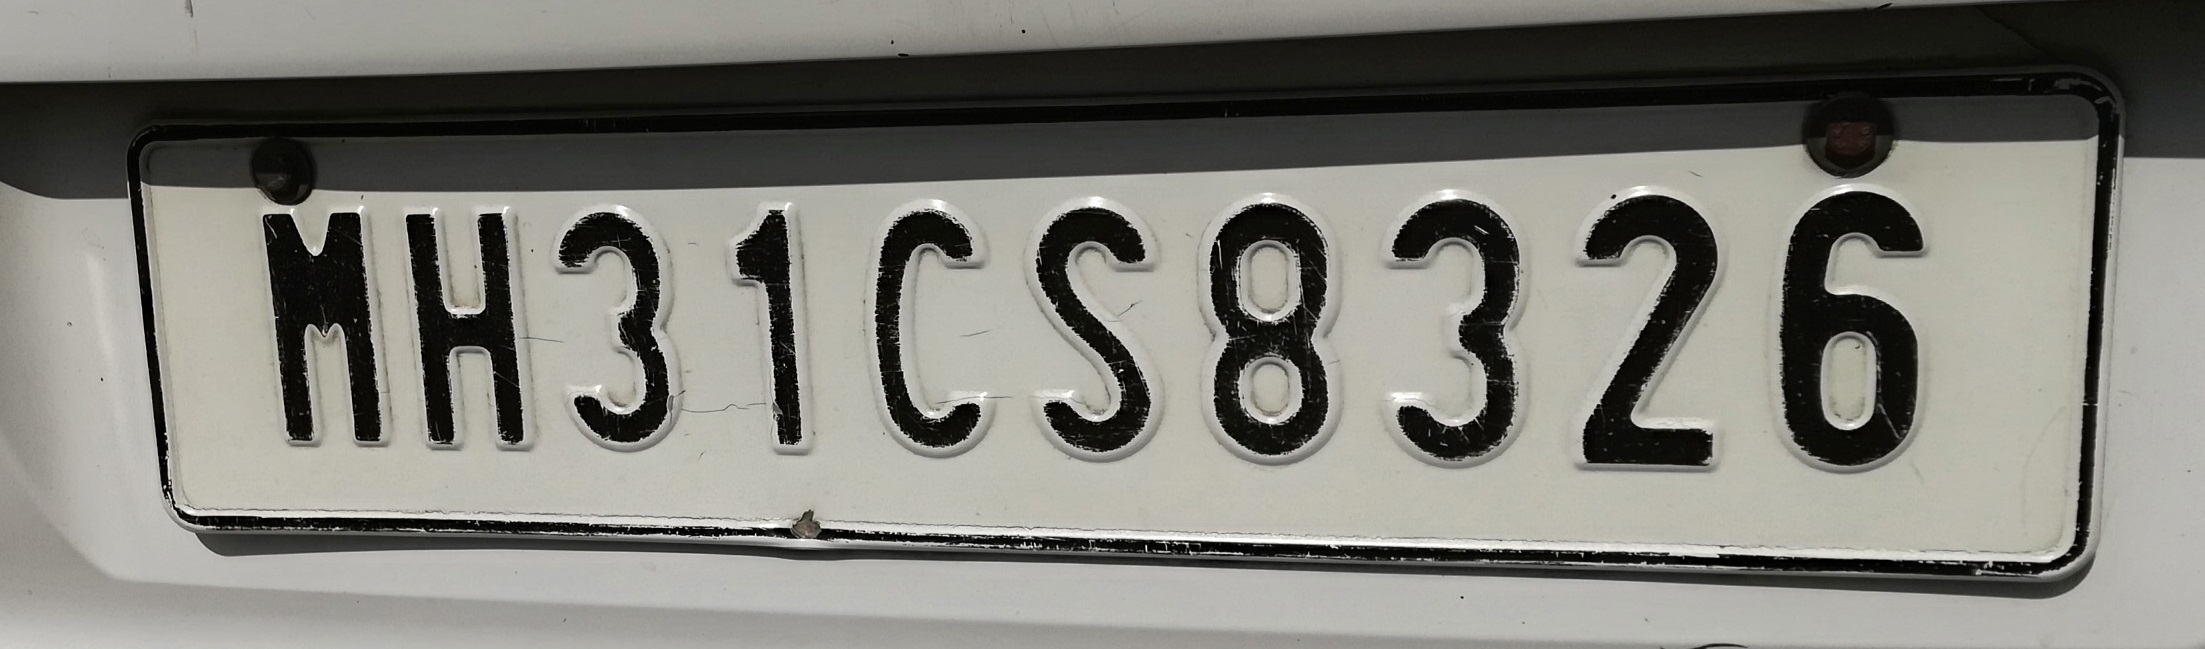numberplate: (124, 56, 2133, 593)
